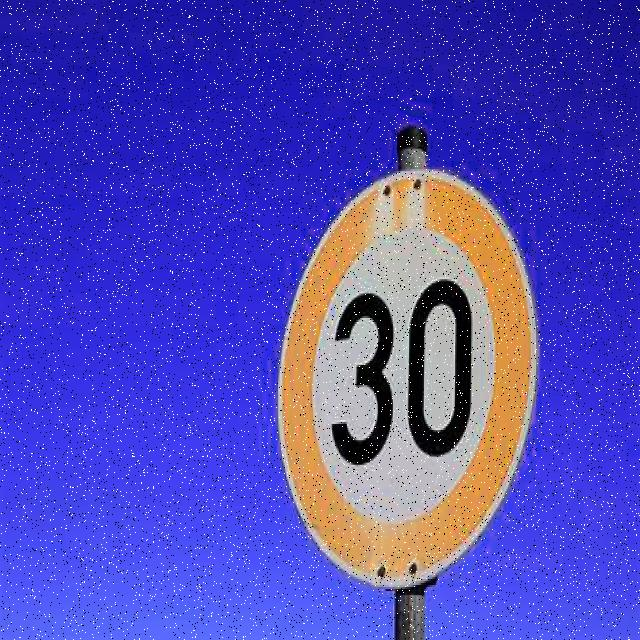speedlimit_30: (278, 167, 538, 570)
